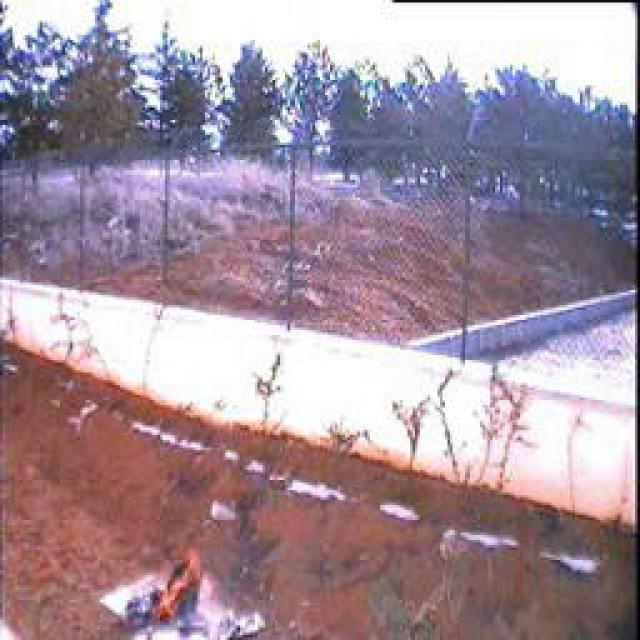Fire: (133, 540, 211, 630)
